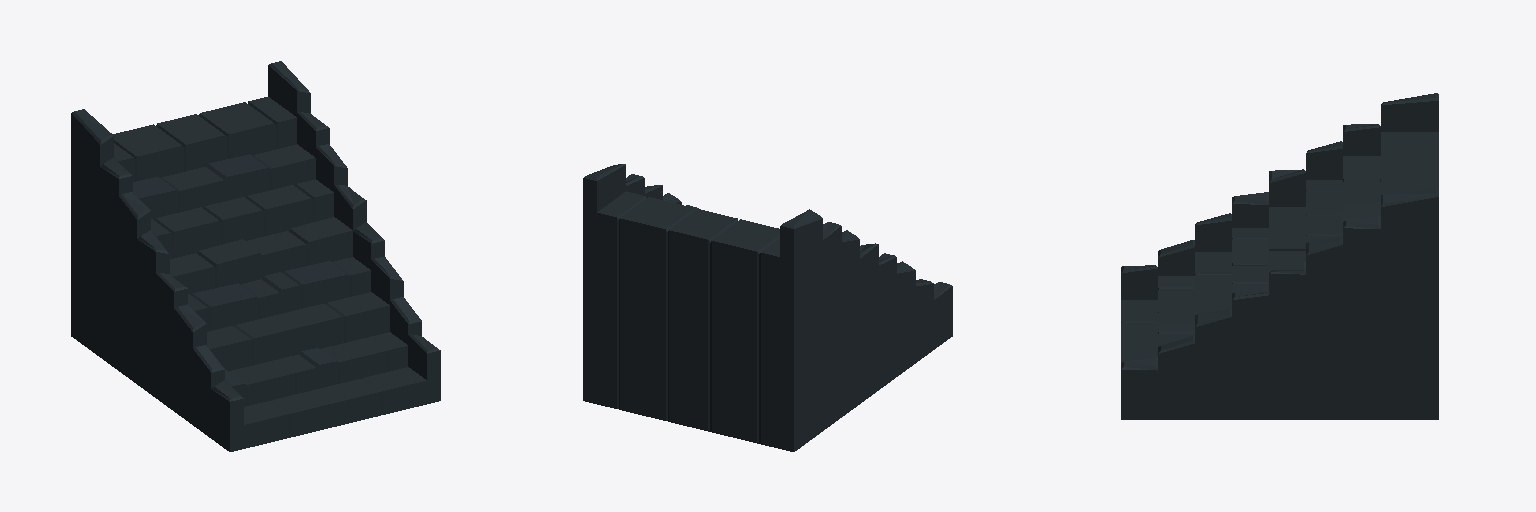
Rendered from stairs_wide.obj.
The picture shows the model from 3 angles: view 1: azimuth 30°, elevation 25°; view 2: azimuth 150°, elevation 25°; view 3: azimuth 270°, elevation 25°; orthographic projection.
Visible parts, largest first — view 1: stairs_wide_Cube.4142; view 2: stairs_wide_Cube.4142; view 3: stairs_wide_Cube.4142.
Part boxes in pixels (left/top/right/bottom): stairs_wide_Cube.4142: left=71, top=61, right=440, bottom=451; stairs_wide_Cube.4142: left=583, top=164, right=952, bottom=451; stairs_wide_Cube.4142: left=1121, top=93, right=1438, bottom=419.
Size of the model in its own units: 4.6 by 4.7 by 6.